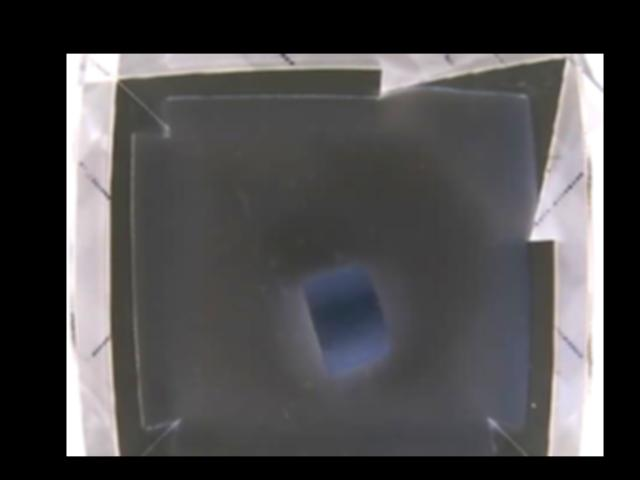Mooli: (299, 263, 387, 370)
